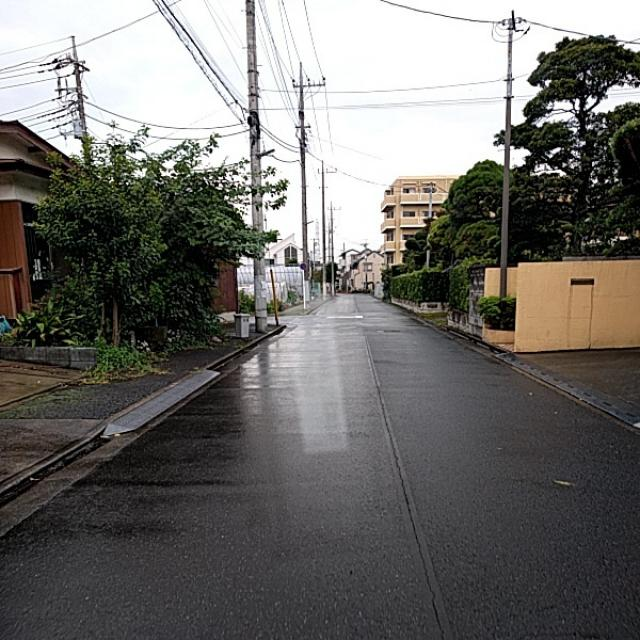pothole: (359, 458, 444, 540)
